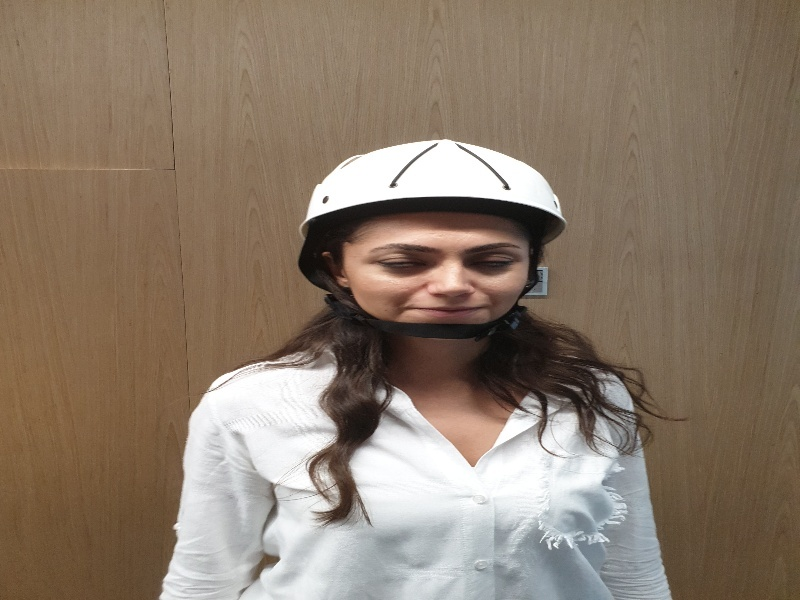Baret: (306, 142, 580, 232)
